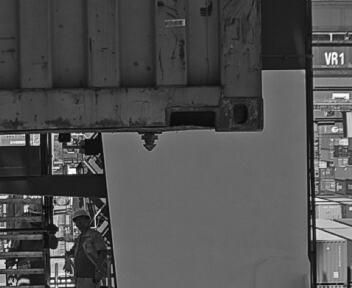twist_lock_2: (160, 129, 202, 173)
